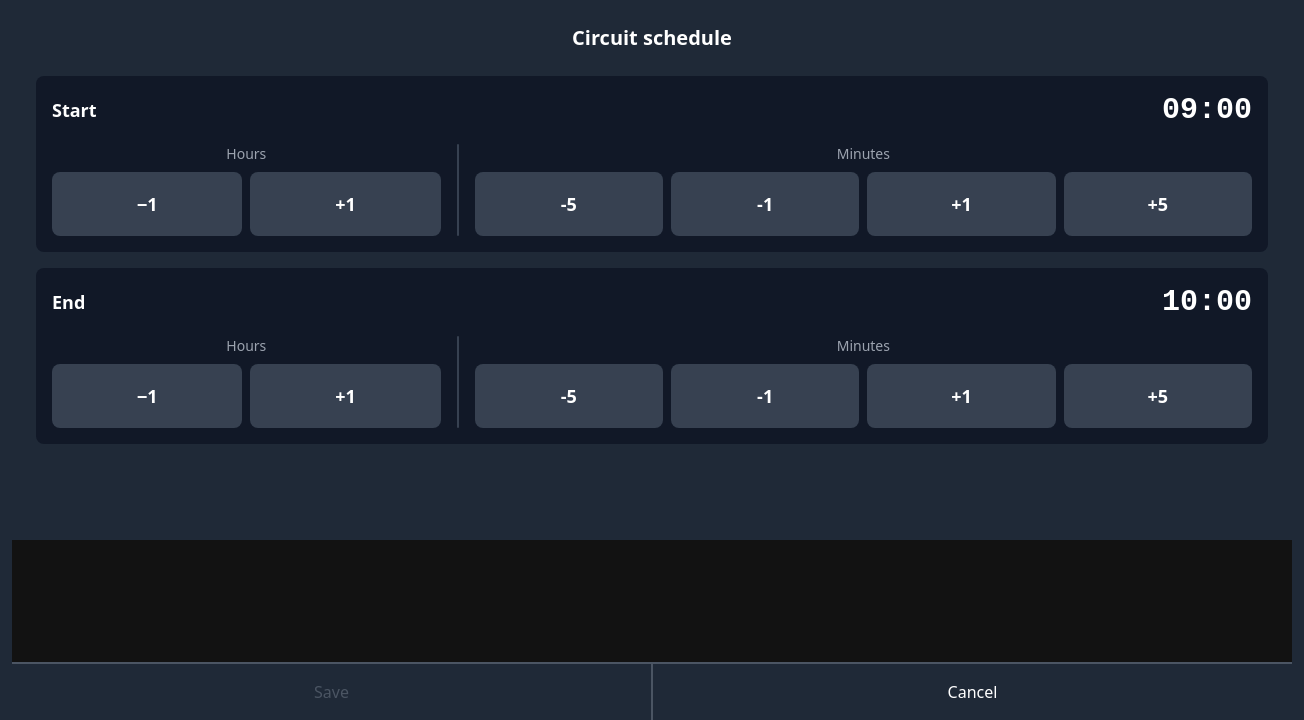
it: TimeRangeScheduleBody › rejects equal start and end times
Click the button named "Decrease end hour" at (147, 396), box [52,364,242,428]
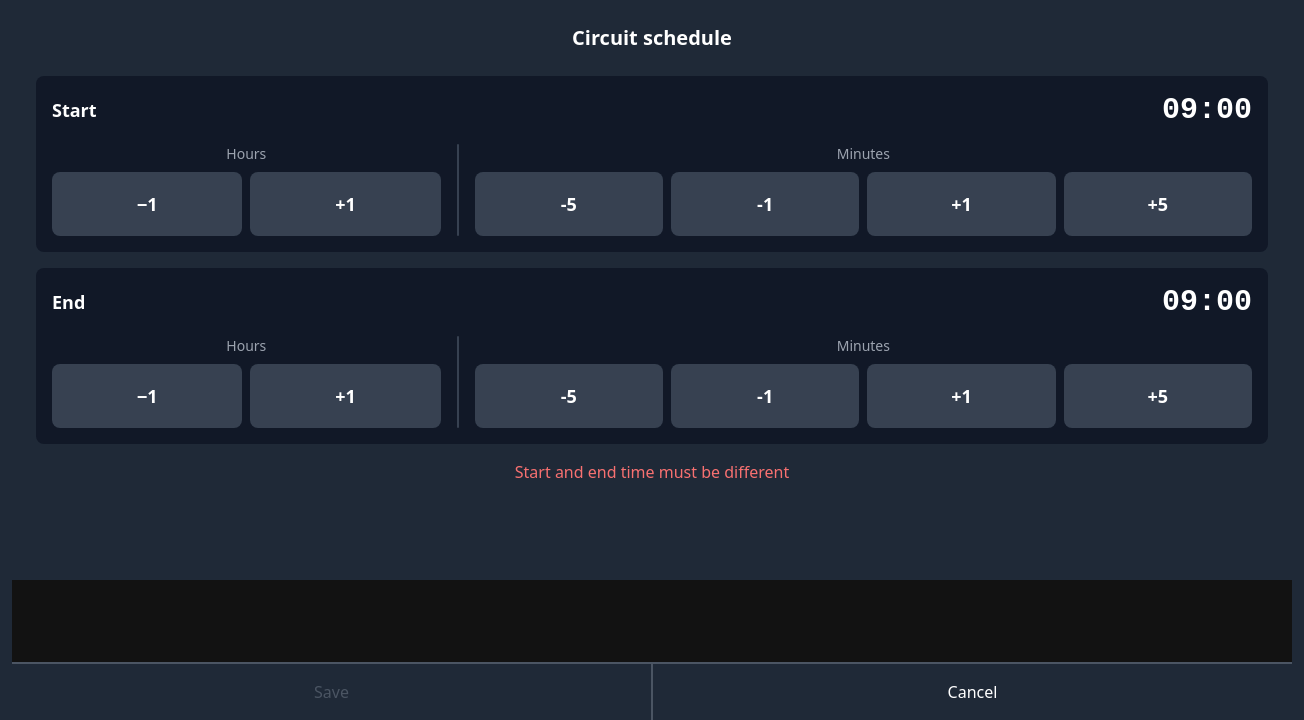
Expected: the button with test id "modal-button-Save" is disabled, [12,662,653,719]
Expected: the text "Start and end time must be different" is shown, [515,461,789,483]
